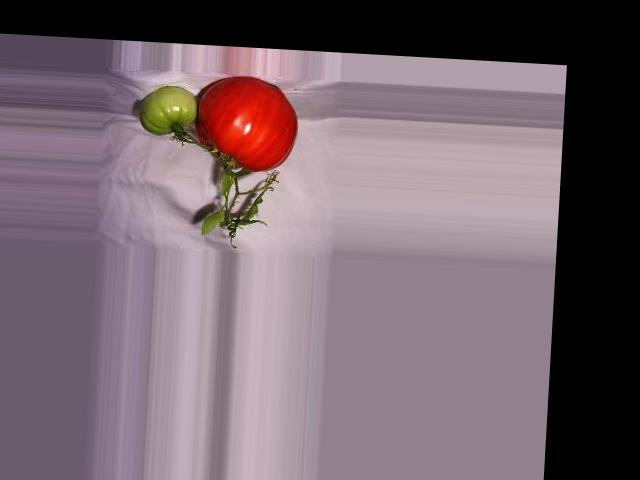tomato: (192, 74, 300, 173)
